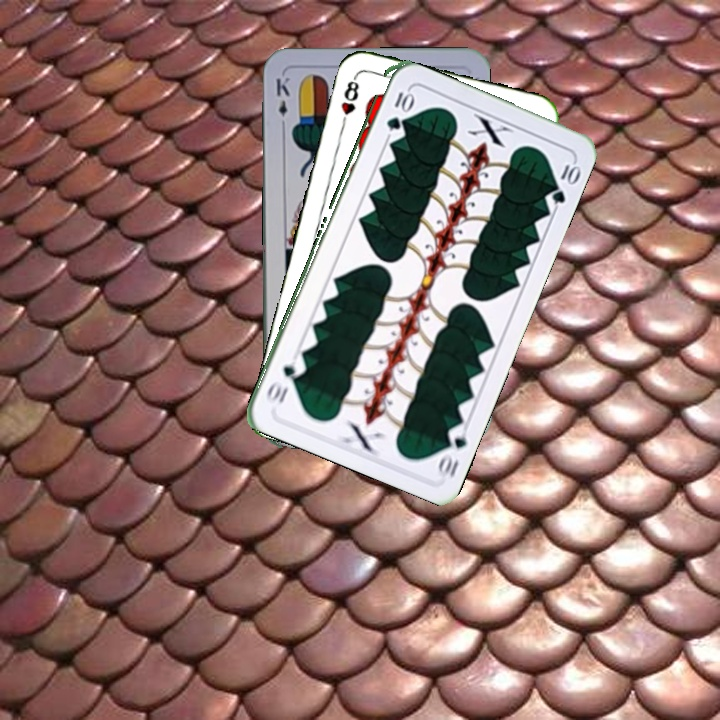EK: (272, 73, 292, 132)
G10: (434, 420, 470, 480), (382, 86, 413, 133)
H8: (337, 72, 362, 131)
